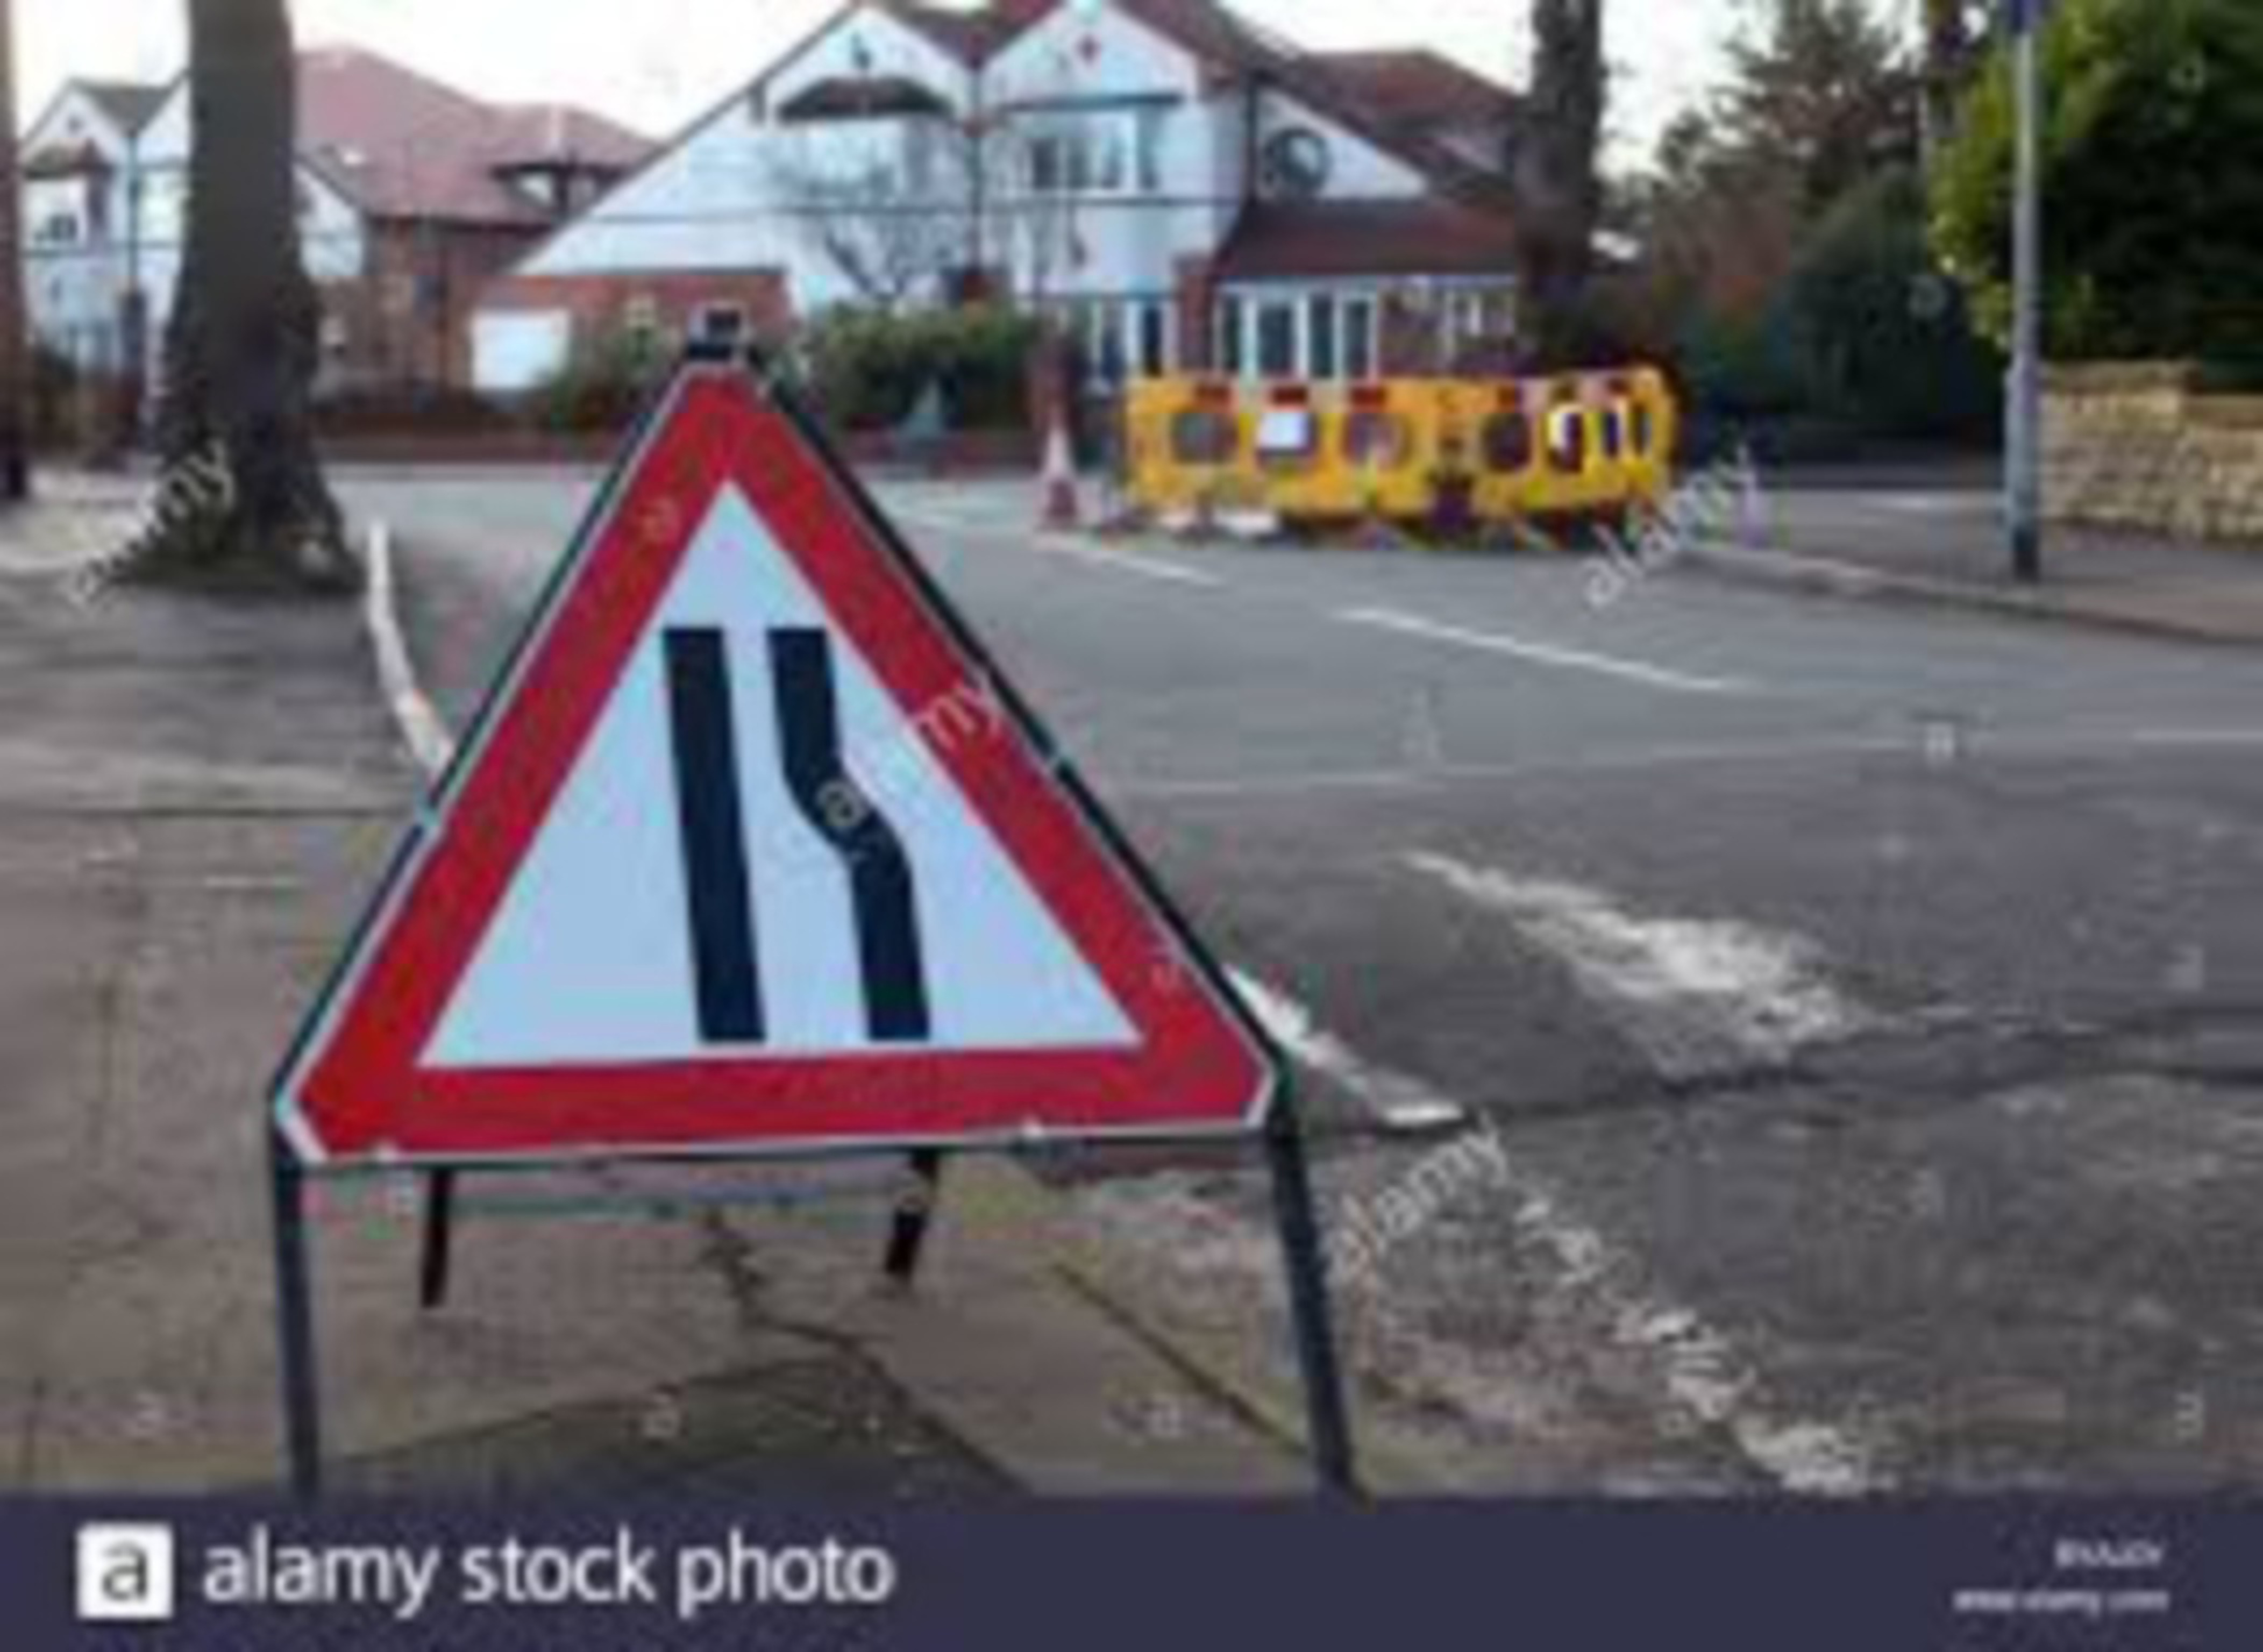Narrow_road: (209, 337, 1339, 1174)
